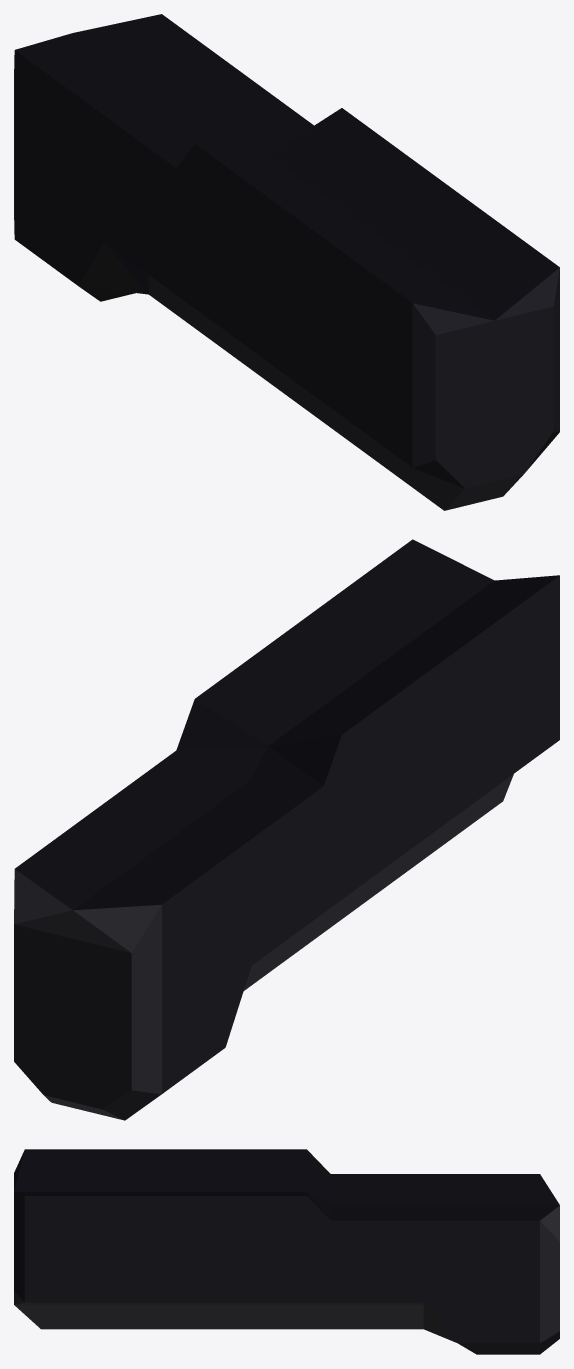
The model's file is MW1_PumpHandle_12ga_03.fbx.
3 views of the same model, one above another, from view 1: azimuth 30°, elevation 25°; view 2: azimuth 150°, elevation 25°; view 3: azimuth 270°, elevation 25° (orthographic). The views are drawn at different scales.
Visible parts, largest first — view 1: PumpHandle_12ga_03; view 2: PumpHandle_12ga_03; view 3: PumpHandle_12ga_03.
Part boxes in pixels (box(x1,y1,x2,y2)): PumpHandle_12ga_03: box(14, 14, 559, 510); PumpHandle_12ga_03: box(14, 539, 559, 1120); PumpHandle_12ga_03: box(14, 1149, 559, 1354).
Size of the model in its own units: 3.78 by 6.46 by 18.78.
